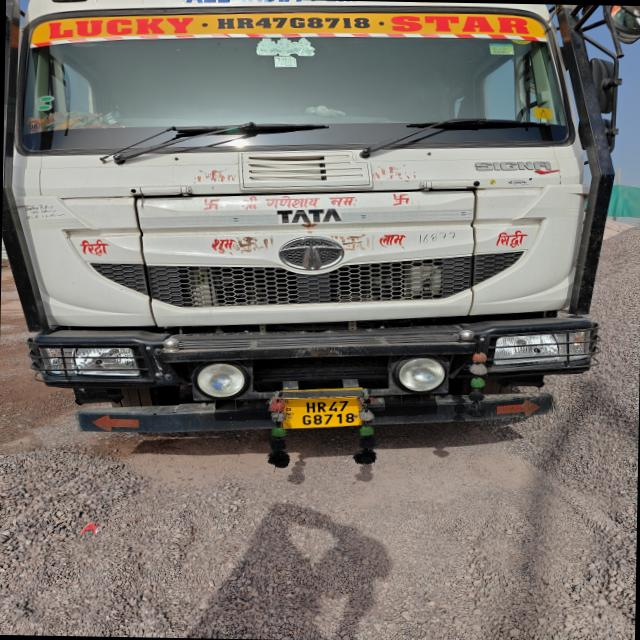license_plate: (283, 398, 362, 428)
